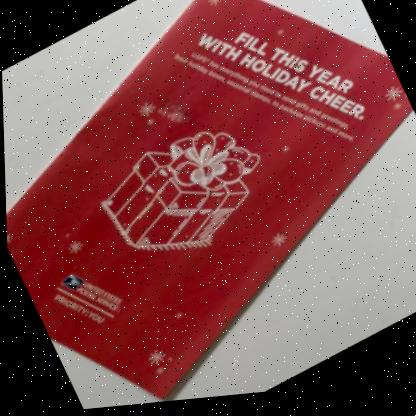Paper: (5, 0, 412, 404)
